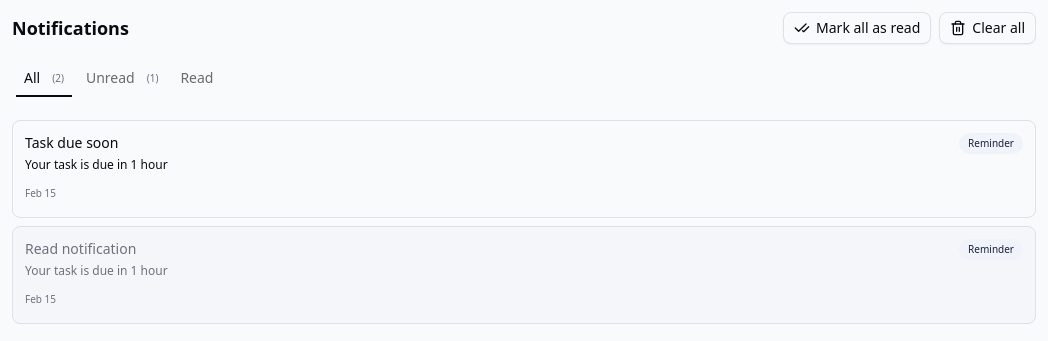
Test: NotificationCenter › filters to read notifications when read tab is clicked
This screenshot has width=1048, height=341.
Click the tab "Read" at (197, 78), box x1=171 y1=64 x2=222 y2=92
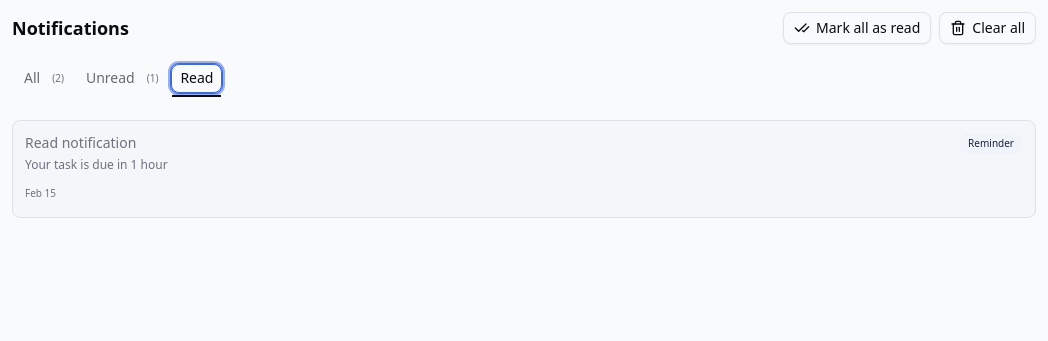
Expected: the text "Read notification" is shown, x1=25 y1=133 x2=136 y2=152
Expected: the button "Task due soon" is gone
